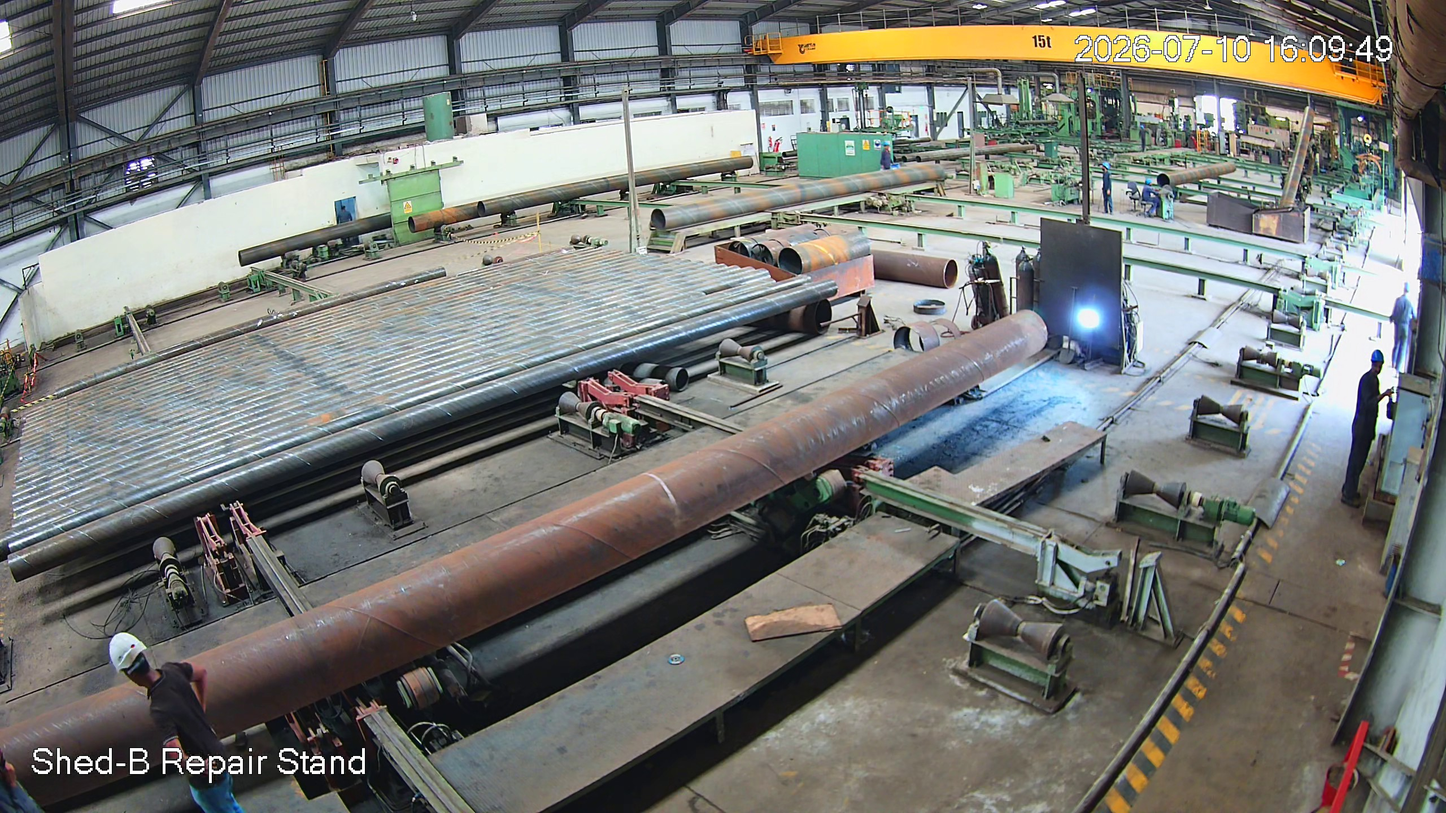Helmet: (100, 629, 175, 687), (1365, 344, 1392, 380)
Person: (106, 634, 245, 813), (1336, 347, 1393, 528)
